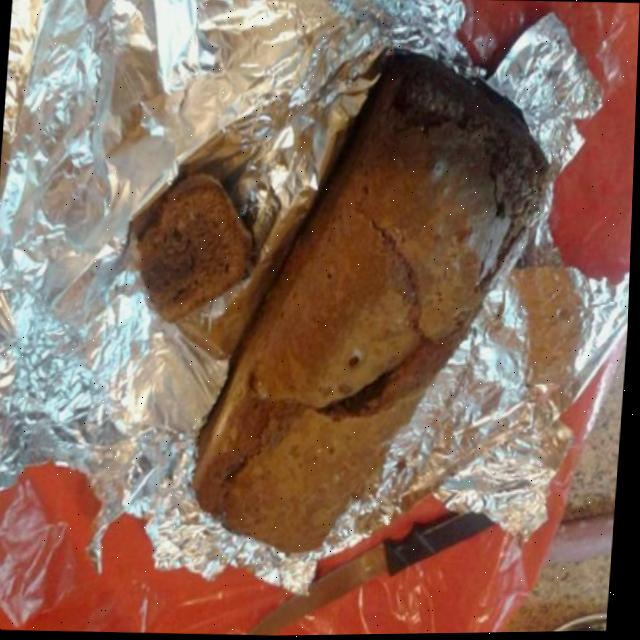蛋糕甜品: (91, 51, 585, 598)
